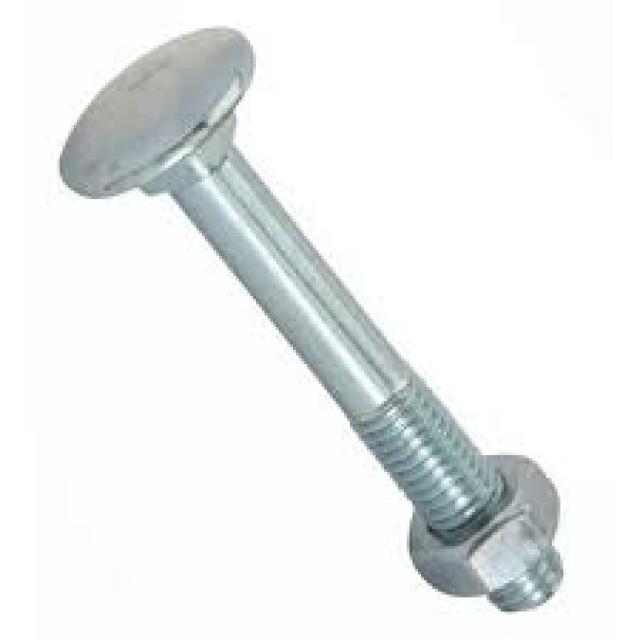metal: (57, 23, 563, 612), (404, 455, 557, 595)
